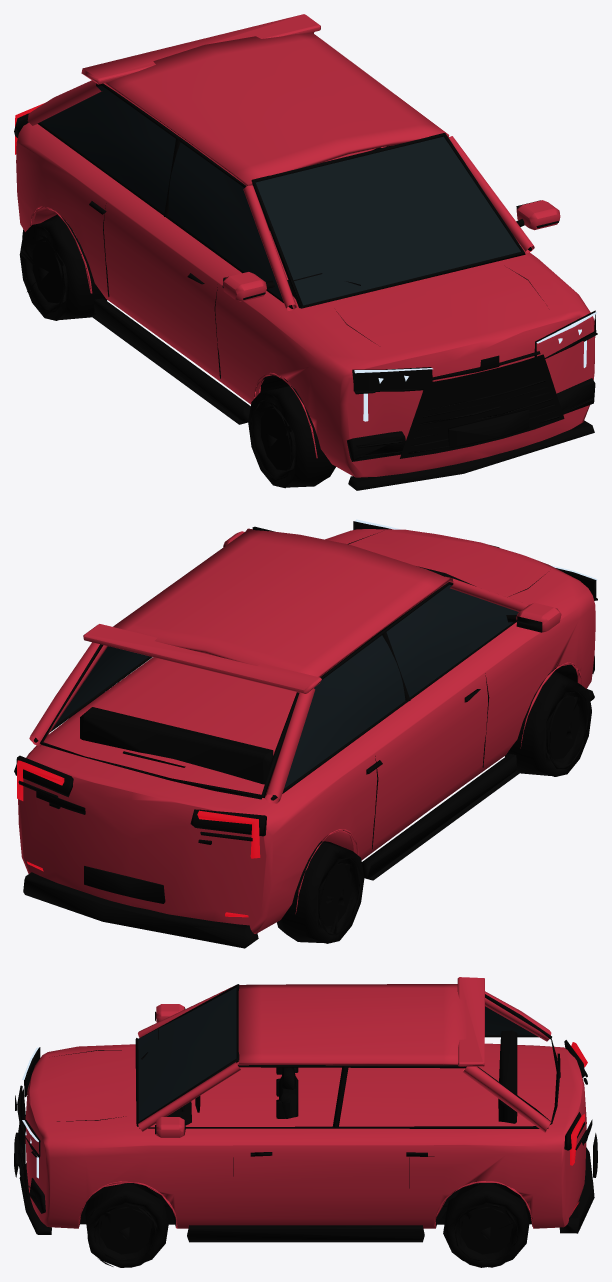
File: myvi-far.glb
The picture shows the model from 3 angles, top to bottom: view 1: azimuth 30°, elevation 25°; view 2: azimuth 150°, elevation 25°; view 3: azimuth 270°, elevation 25°; orthographic projection. The views are drawn at different scales.
Parts seen in each view (by area): view 1: chassis.001__Automotive clearcoat, chassis.001__Solar glass, chassis.001__Vehicle detail atlas, wheel_FL.001__Vehicle detail atlas, wheel_RL.001__Vehicle detail atlas, chassis.001__White LED optics; view 2: chassis.001__Automotive clearcoat, chassis.001__Vehicle detail atlas, chassis.001__Solar glass, wheel_RL.001__Vehicle detail atlas, wheel_FL.001__Vehicle detail atlas, chassis.001__Red LED optics; view 3: chassis.001__Automotive clearcoat, chassis.001__Vehicle detail atlas, chassis.001__Solar glass, wheel_RR.001__Vehicle detail atlas, wheel_FR.001__Vehicle detail atlas, chassis.001__Red LED optics.
Part boxes in pixels (<box>): chassis.001__Automotive clearcoat: <box>16,14,595,477</box>; chassis.001__Solar glass: <box>41,85,520,305</box>; chassis.001__Vehicle detail atlas: <box>14,83,596,490</box>; wheel_FL.001__Vehicle detail atlas: <box>248,385,335,488</box>; wheel_RL.001__Vehicle detail atlas: <box>19,214,107,320</box>; chassis.001__White LED optics: <box>354,312,596,421</box>; chassis.001__Automotive clearcoat: <box>18,528,595,933</box>; chassis.001__Vehicle detail atlas: <box>14,521,596,948</box>; chassis.001__Solar glass: <box>55,584,518,796</box>; wheel_RL.001__Vehicle detail atlas: <box>277,841,364,943</box>; wheel_FL.001__Vehicle detail atlas: <box>505,671,591,776</box>; chassis.001__Red LED optics: <box>17,760,260,917</box>; chassis.001__Automotive clearcoat: <box>25,977,586,1228</box>; chassis.001__Vehicle detail atlas: <box>14,984,597,1242</box>; chassis.001__Solar glass: <box>138,987,534,1121</box>; wheel_RR.001__Vehicle detail atlas: <box>443,1183,529,1267</box>; wheel_FR.001__Vehicle detail atlas: <box>85,1183,168,1267</box>; chassis.001__Red LED optics: <box>570,1042,587,1209</box>.
Size of the model in its own units: 2.05 by 1.52 by 4.05.
8 materials, 6 textured.
